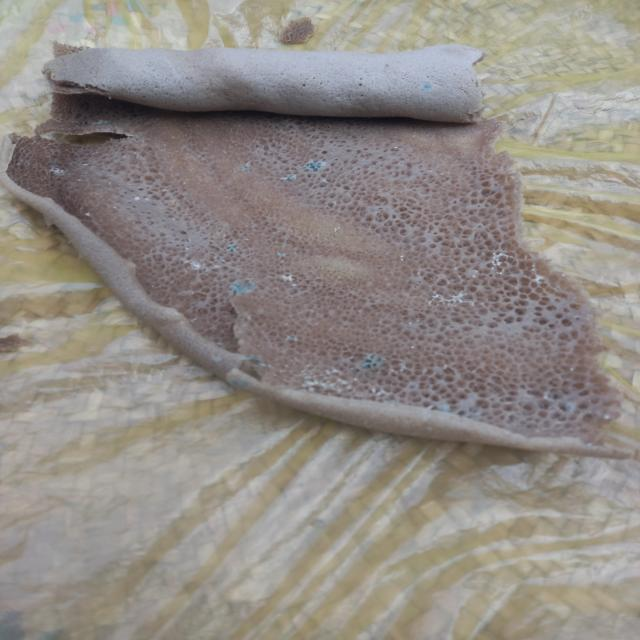injera_mold: (306, 374, 348, 395), (426, 291, 470, 309), (354, 354, 387, 373), (236, 352, 268, 370), (224, 371, 254, 389), (185, 260, 217, 276), (228, 281, 258, 297), (555, 400, 580, 416), (489, 252, 508, 270), (304, 160, 327, 174), (276, 272, 298, 286), (431, 403, 458, 414), (282, 332, 302, 346), (278, 173, 300, 184), (533, 273, 548, 288), (49, 164, 65, 176), (131, 196, 151, 204), (92, 120, 111, 128), (226, 243, 238, 254), (420, 81, 432, 91), (241, 163, 252, 173), (83, 209, 92, 219)
